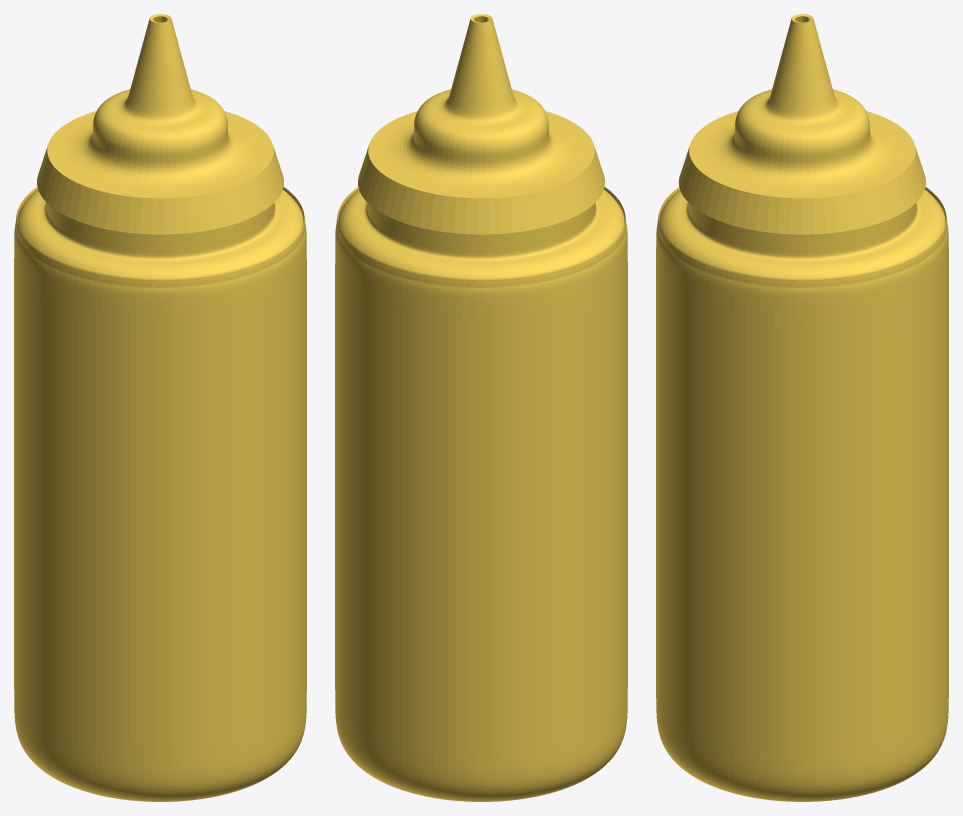
File: MustardSauce.fbx
3 renders of one model, left to right at view 1: azimuth 30°, elevation 25°; view 2: azimuth 150°, elevation 25°; view 3: azimuth 270°, elevation 25°, orthographic.
Visible parts, largest first — view 1: MustardSauce, MustardSauce.001; view 2: MustardSauce, MustardSauce.001; view 3: MustardSauce, MustardSauce.001.
Part boxes in pixels (box(x1,y1,x2,y2)): MustardSauce: box(14, 186, 306, 801); MustardSauce.001: box(37, 14, 283, 234); MustardSauce: box(335, 187, 627, 801); MustardSauce.001: box(358, 14, 604, 234); MustardSauce: box(656, 187, 948, 801); MustardSauce.001: box(678, 14, 926, 234).
Size of the model in its own units: 173 by 480 by 173.
